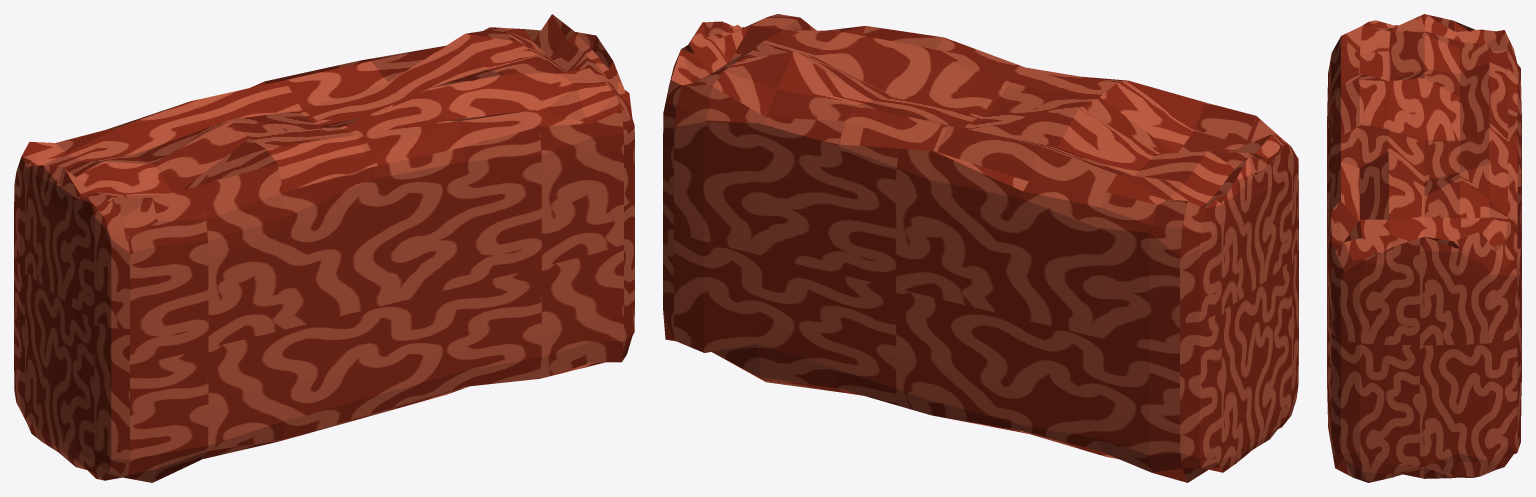
File: thinmeatblock.fbx
The picture shows the model from 3 angles, left to right: view 1: azimuth 30°, elevation 25°; view 2: azimuth 150°, elevation 25°; view 3: azimuth 270°, elevation 25°; orthographic projection. The views are drawn at different scales.
Parts seen in each view (by area): view 1: Meat_block.001; view 2: Meat_block.001; view 3: Meat_block.001.
Boxes of the visible parts, bbox=[...] form: Meat_block.001: bbox=[14, 14, 634, 482]; Meat_block.001: bbox=[663, 14, 1298, 482]; Meat_block.001: bbox=[1327, 14, 1521, 482].
Size of the model in its own units: 218 by 118 by 78.66.
1 material, 1 textured.
